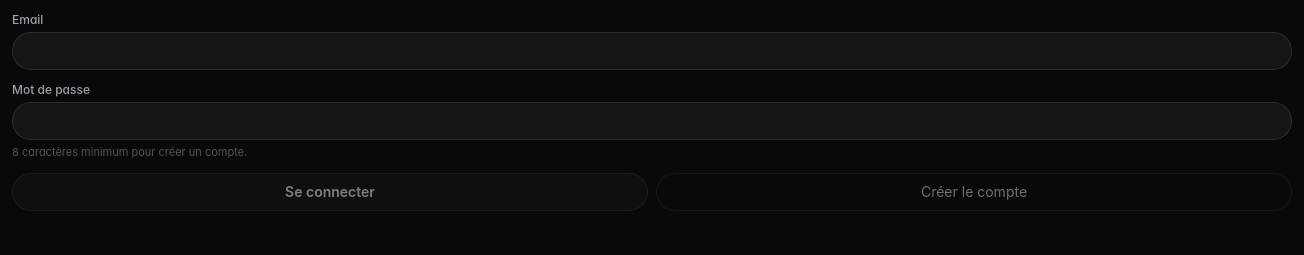
Test case: DevLoginForm › reports a network failure rather than navigating anyway
In the field labelled "Email": [652, 51] box left=12, top=32, right=1292, bottom=70, type "dev@local.test"
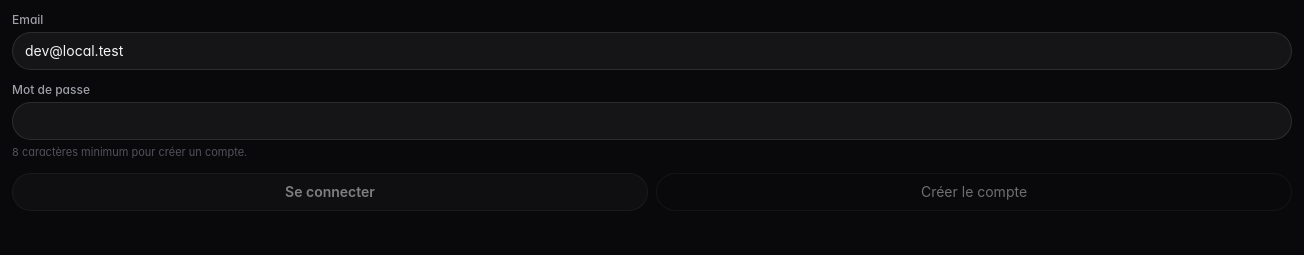
In the password field labelled "Mot de passe": [652, 121] box left=12, top=102, right=1292, bottom=140, type "motdepasse-123"
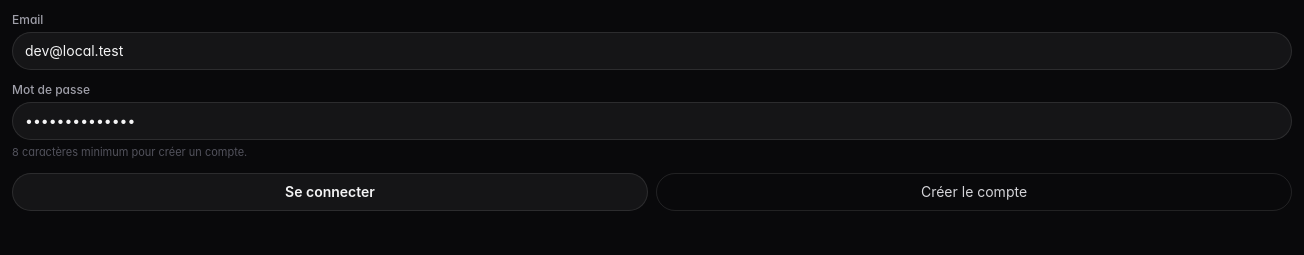
Click the button "Se connecter": [330, 192] box left=12, top=172, right=648, bottom=210
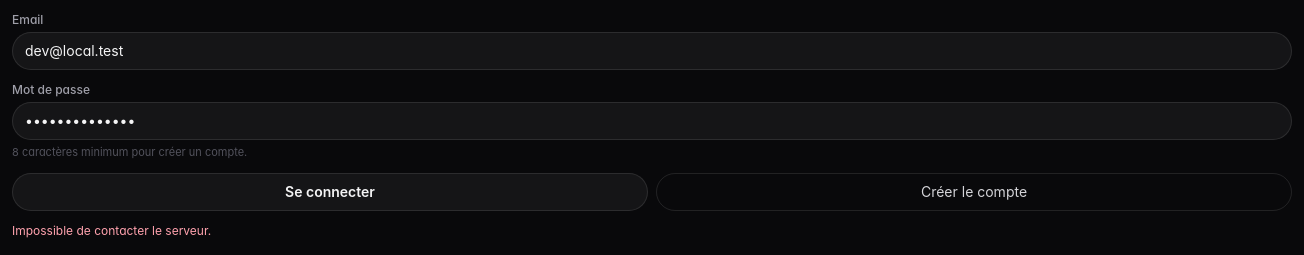
Expected: the text "Impossible de contacter le serveur." is shown, left=12, top=222, right=211, bottom=238
